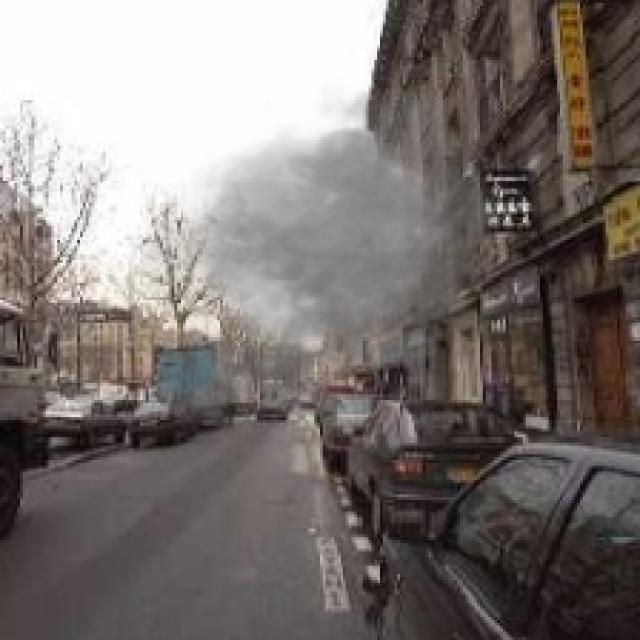Smoke: (117, 71, 523, 443)
